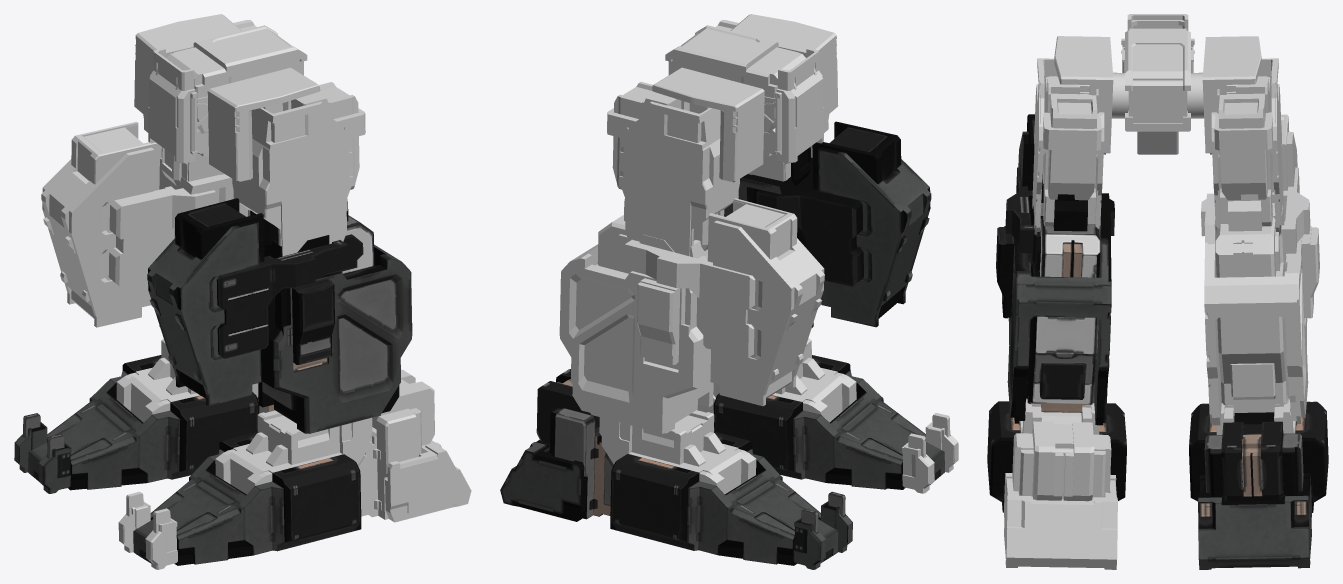
File: Lower.fbx
3 renders of one model, left to right at view 1: azimuth 30°, elevation 25°; view 2: azimuth 150°, elevation 25°; view 3: azimuth 270°, elevation 25°, orthographic.
Visible parts, largest first — view 1: Calf_L, Calf_R, Tiptoe_L, Thigh_L, U_Tiptoe_R, Dreadnought_Lower__1_, Heel_L, Foot_L, Dreadnought_Lower_L, Dreadnought_Lower_R, Foot_R, Toenail_L (+2 smaller); view 2: Calf_R, Calf_L, U_Tiptoe_R, Thigh_R, Tiptoe_L, Dreadnought_Lower__1_, U_Heel_R, Foot_R, Dreadnought_Lower_R, Dreadnought_Lower_L, Foot_L, U_Toenail_R (+2 smaller); view 3: Calf_R, Calf_L, Heel_L, U_Heel_R, Thigh_R, Thigh_L, Dreadnought_Lower__1_, Tiptoe_L, U_Tiptoe_R, Dreadnought_Lower_L, Dreadnought_Lower_R, Foot_L (+1 smaller).
Boxes of the visible parts, bbox=[...] form: Calf_L: bbox=[147, 198, 412, 433]; Calf_R: bbox=[41, 121, 247, 327]; Tiptoe_L: bbox=[133, 431, 361, 565]; Thigh_L: bbox=[232, 82, 365, 256]; U_Tiptoe_R: bbox=[28, 355, 259, 490]; Dreadnought_Lower__1_: bbox=[148, 25, 307, 163]; Heel_L: bbox=[358, 369, 471, 522]; Foot_L: bbox=[215, 410, 372, 494]; Dreadnought_Lower_L: bbox=[207, 67, 320, 182]; Dreadnought_Lower_R: bbox=[134, 14, 241, 117]; Foot_R: bbox=[116, 339, 258, 422]; Toenail_L: bbox=[118, 491, 177, 569]; Calf_R: bbox=[559, 198, 824, 433]; Calf_L: bbox=[724, 121, 931, 327]; U_Tiptoe_R: bbox=[610, 431, 838, 565]; Thigh_R: bbox=[607, 82, 739, 256]; Tiptoe_L: bbox=[713, 355, 944, 489]; Dreadnought_Lower__1_: bbox=[665, 25, 823, 163]; U_Heel_R: bbox=[500, 369, 613, 521]; Foot_R: bbox=[599, 410, 756, 494]; Dreadnought_Lower_R: bbox=[652, 67, 764, 182]; Dreadnought_Lower_L: bbox=[730, 14, 838, 117]; Foot_L: bbox=[713, 338, 856, 422]; U_Toenail_R: bbox=[793, 491, 852, 569]; Calf_R: bbox=[1201, 114, 1319, 425]; Calf_L: bbox=[996, 114, 1114, 425]; Heel_L: bbox=[1003, 412, 1117, 569]; U_Heel_R: bbox=[1198, 412, 1312, 569]; Thigh_R: bbox=[1187, 58, 1283, 235]; Thigh_L: bbox=[1032, 58, 1128, 235]; Dreadnought_Lower__1_: bbox=[1121, 14, 1194, 154]; Tiptoe_L: bbox=[987, 401, 1126, 512]; U_Tiptoe_R: bbox=[1189, 401, 1328, 512]; Dreadnought_Lower_L: bbox=[1054, 36, 1113, 153]; Dreadnought_Lower_R: bbox=[1202, 36, 1261, 153]; Foot_L: bbox=[1019, 398, 1099, 434].
Bounding box in the file's own units: 804 × 1080 × 747.
